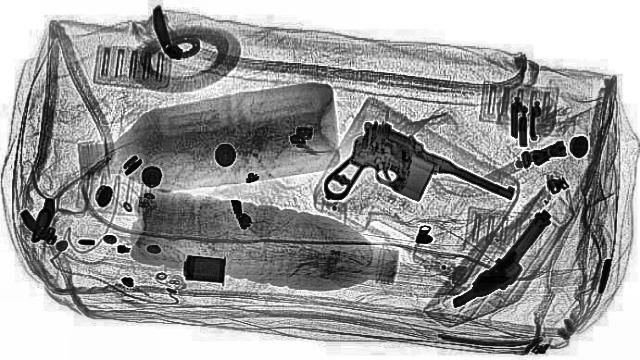Gun: (276, 115, 532, 243), (447, 206, 568, 314)
